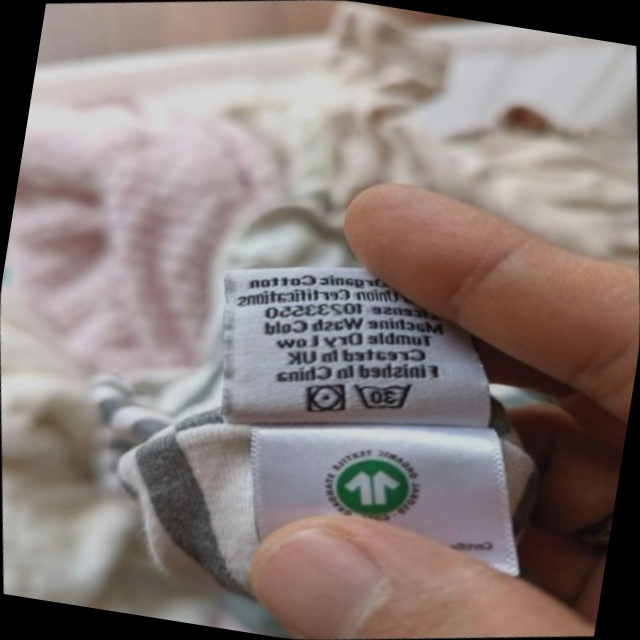30C: (345, 367, 424, 425)
tumble_dry_low: (297, 373, 355, 425)
